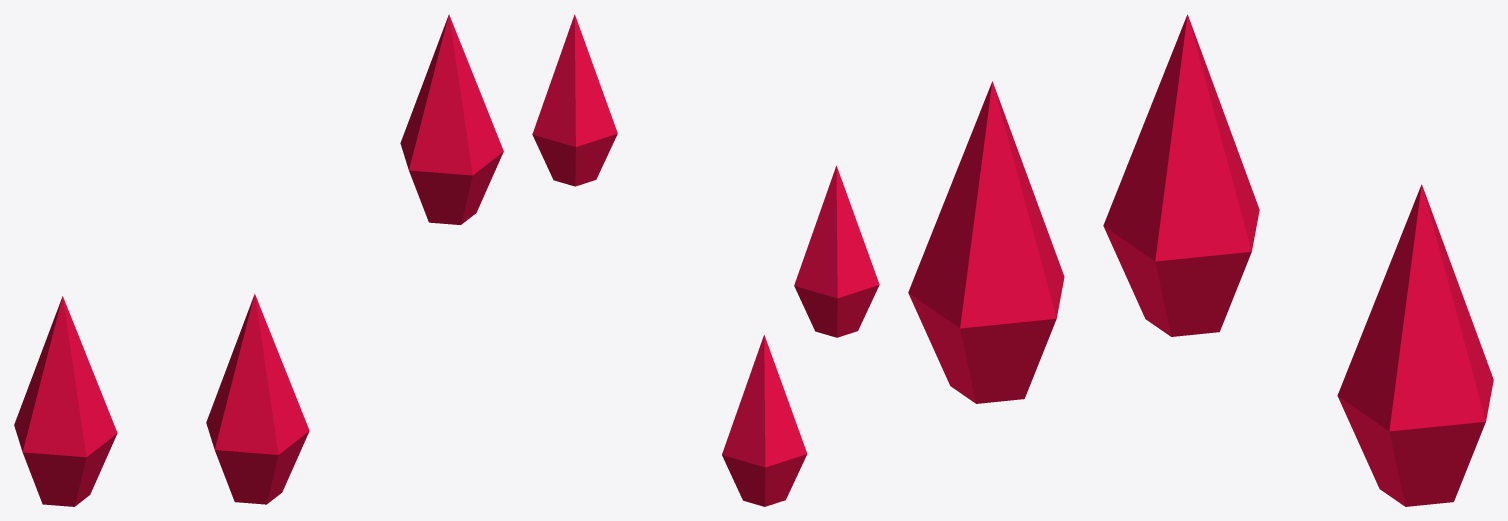
Rendered from flames4.glb.
3 views of the same model, side by side, from view 1: azimuth 30°, elevation 25°; view 2: azimuth 150°, elevation 25°; view 3: azimuth 270°, elevation 25° (orthographic). The views are drawn at different scales.
Visible parts, largest first — view 1: Flames4; view 2: Flames4; view 3: Flames4.
Part boxes in pixels (x1,y1,x2,y2): Flames4: (14,14,503,506); Flames4: (532,14,879,506); Flames4: (908,14,1493,506).
Size of the model in its own units: 0.5433 by 0.6 by 0.4502.
